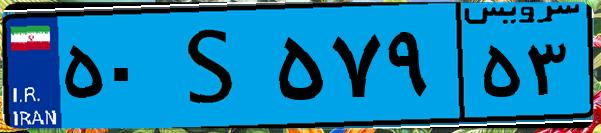0: (110, 28, 158, 98)
3: (525, 38, 570, 115)
5: (270, 28, 330, 110), (57, 26, 110, 100), (475, 38, 525, 113)
7: (330, 28, 385, 110)
9: (385, 28, 445, 110)
S: (158, 12, 270, 120)
